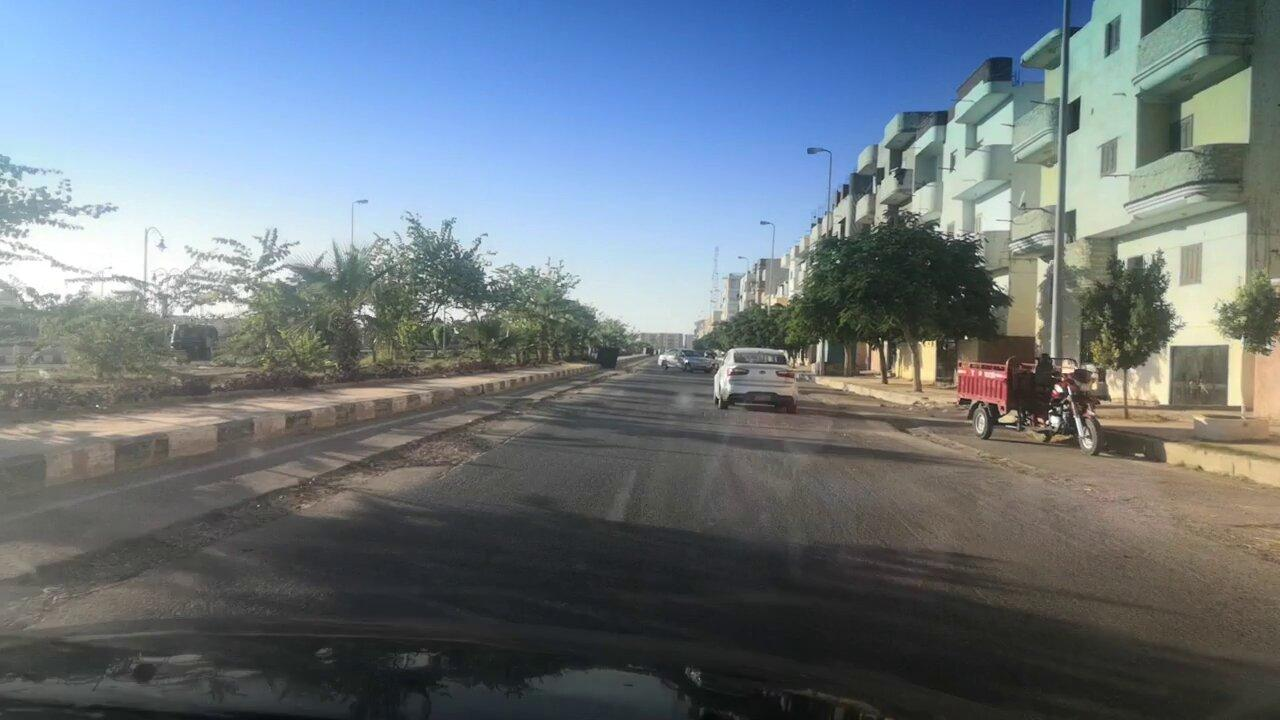Pothole: (38, 388, 560, 633)
